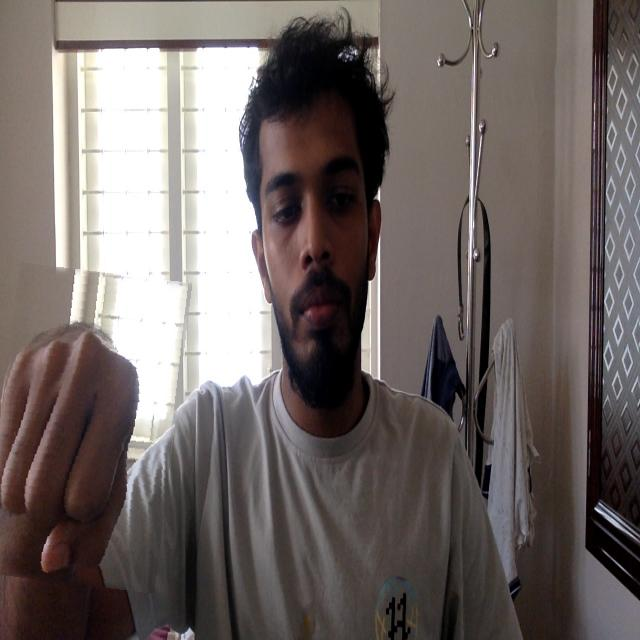Yes: (0, 266, 182, 588)
